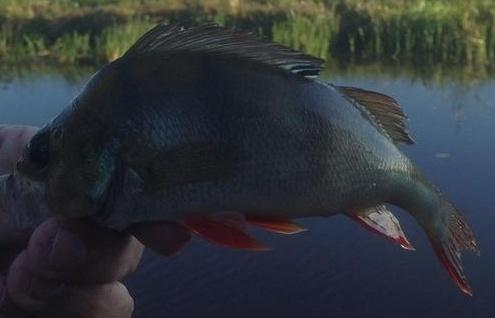Perch: (22, 21, 485, 301)
